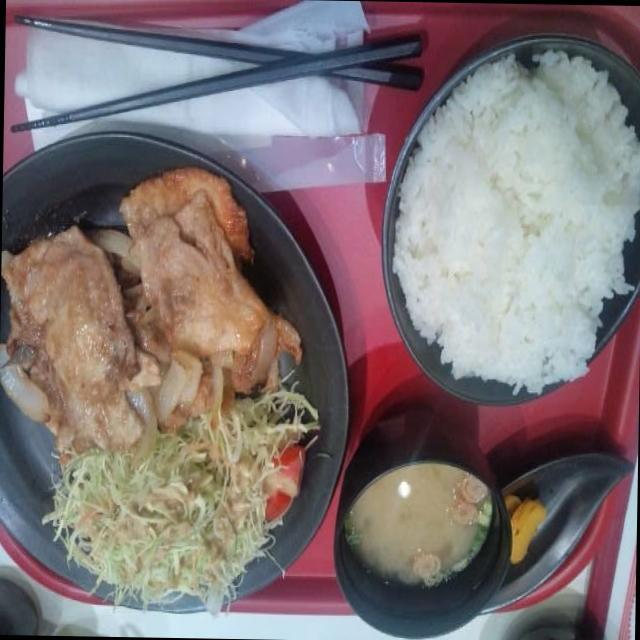Rice: (397, 61, 640, 392)
